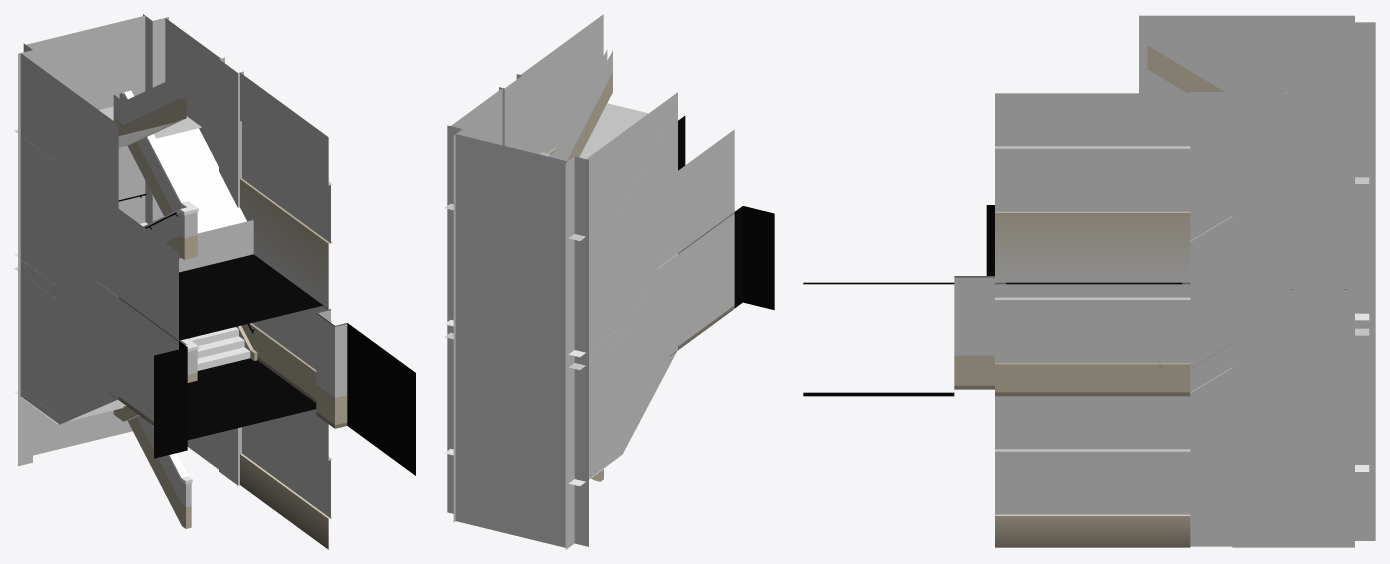
Rendered from b01_classroom_stairs_00.fbx.
3 renders of one model, left to right at view 1: azimuth 30°, elevation 25°; view 2: azimuth 150°, elevation 25°; view 3: azimuth 270°, elevation 25°, orthographic. The views are drawn at different scales.
Parts seen in each view (by area): view 1: b01_classroom_stairs_00; view 2: b01_classroom_stairs_00; view 3: b01_classroom_stairs_00.
Boxes of the visible parts, x1,y1,x2,y2 form: b01_classroom_stairs_00: (14,14,415,549); b01_classroom_stairs_00: (444,14,774,549); b01_classroom_stairs_00: (803,15,1375,547).
Size of the model in its own units: 555 by 1331 by 1370.
